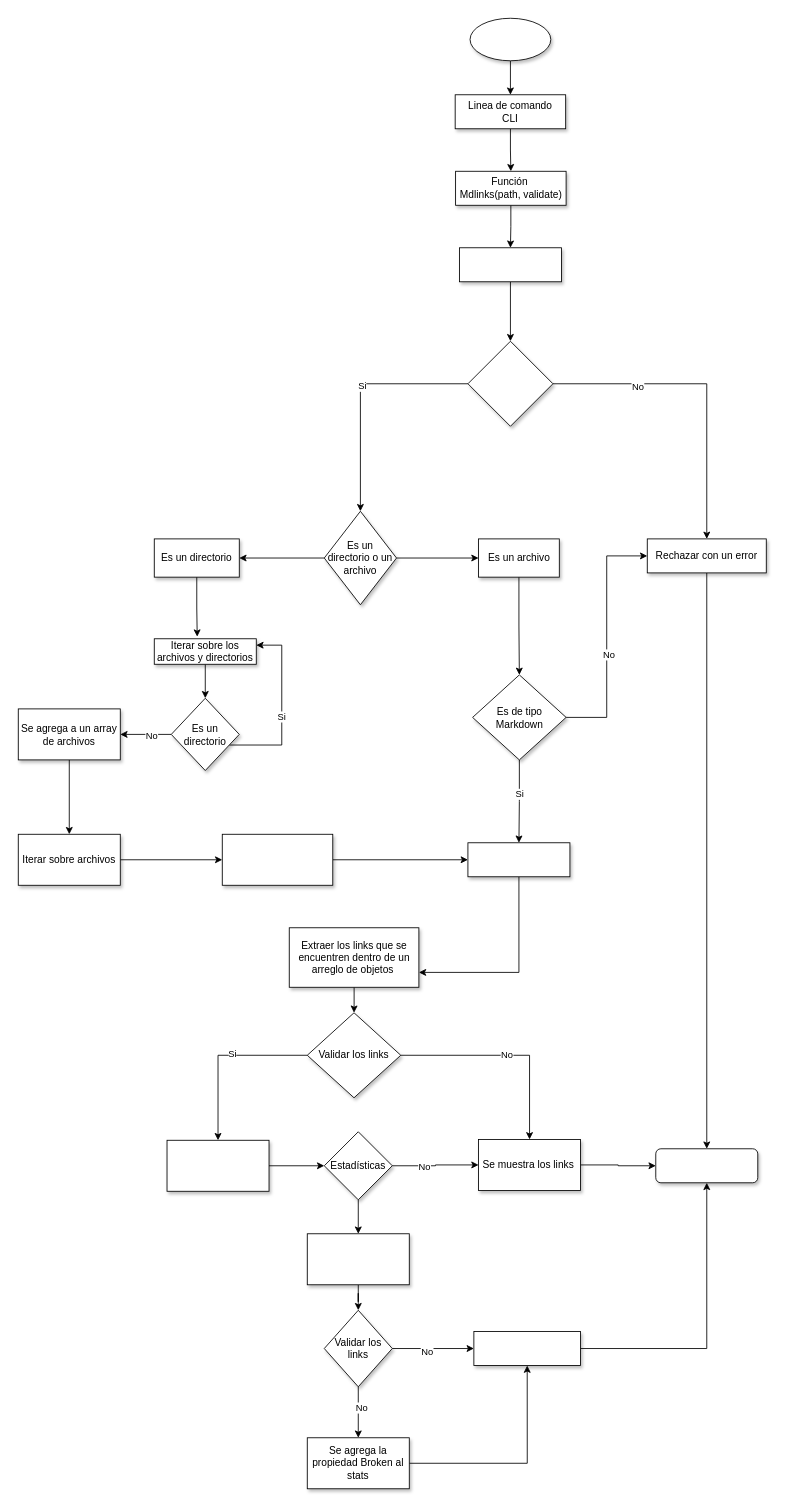
Image size: 786x1510. Some labels were removed from this diagram. Each missing label, with the centre of its shape:
"Comprobar si la ruta existe" goes at [511,384].
"Ejecutar función stats" goes at [358,1260].
"Filtrar archivos tipo Markdown" goes at [278,860].
"Fin" goes at [707,1167].
"Inicio" goes at [511,40].
"Leer el archivo" goes at [519,861].
"Mostrar stats" goes at [528,1349].
"Se agrega el estado HTTP al arreglo de links" goes at [218,1166].
"Transforma la ruta a absoluta" goes at [511,266].
